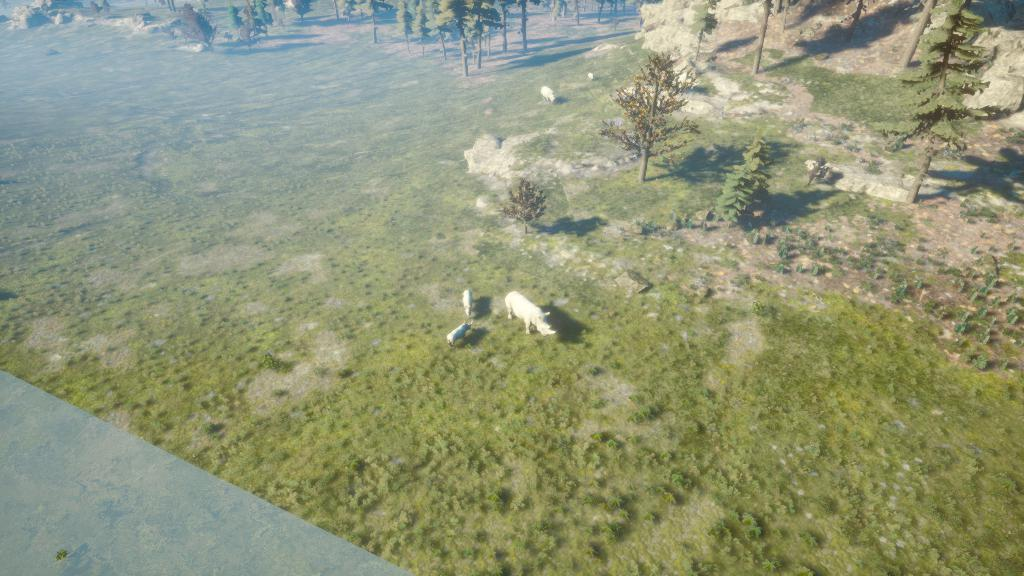rhinoceros: (503, 288, 559, 340), (444, 321, 474, 349), (460, 288, 476, 319), (539, 85, 560, 104)
